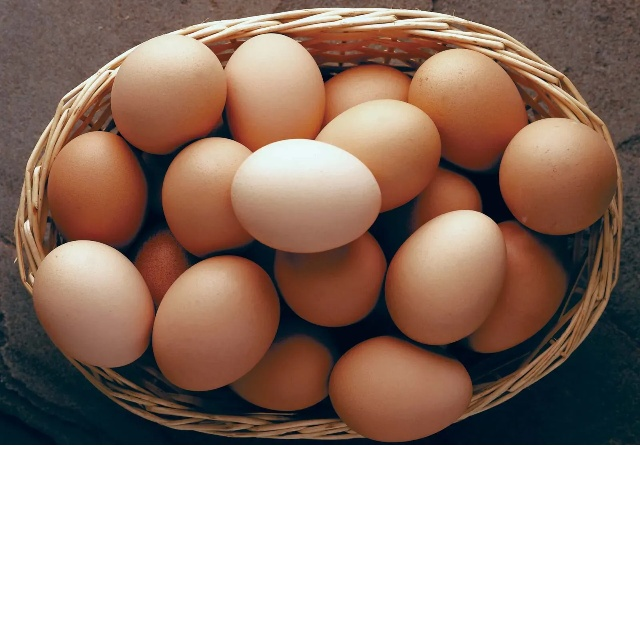mit: (151, 256, 286, 395), (228, 137, 386, 255), (381, 208, 508, 349), (325, 334, 475, 442), (31, 238, 153, 369), (314, 95, 442, 214), (497, 113, 621, 235), (408, 45, 529, 169), (105, 33, 229, 153), (46, 127, 150, 250), (223, 31, 329, 146), (159, 134, 251, 258)
